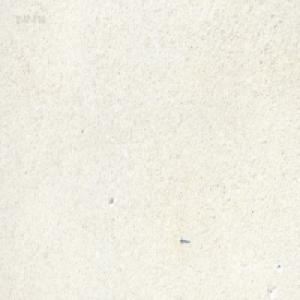Nail: (179, 235, 190, 243)
